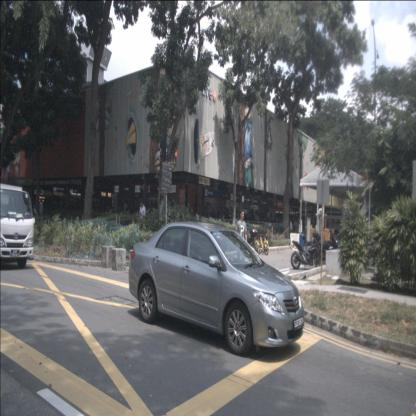human-pedestrian-adult: (235, 209, 248, 274), (138, 199, 146, 237), (194, 211, 199, 230)
movable_object-barrier: (101, 246, 116, 268), (112, 248, 126, 271)
vehicle-car: (128, 222, 304, 356)
vehicle-motorcycle: (312, 229, 340, 262), (291, 239, 322, 268), (242, 224, 258, 263)
vehicle-truck: (0, 183, 36, 269)
